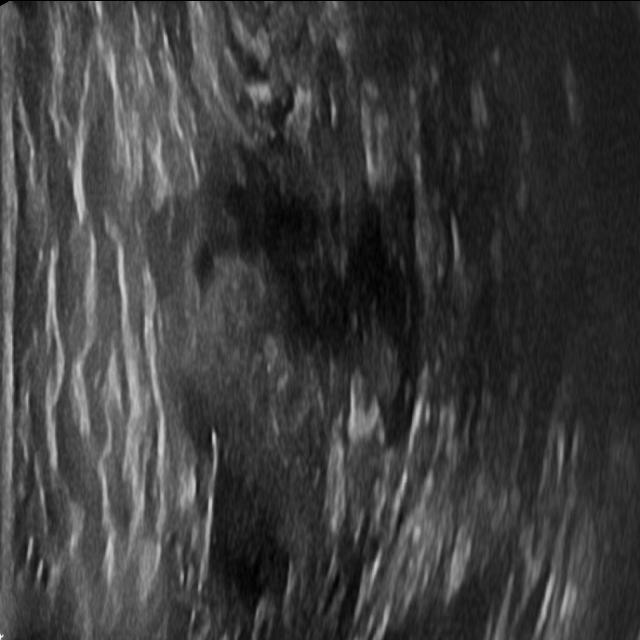Normal: (16, 23, 620, 620)
